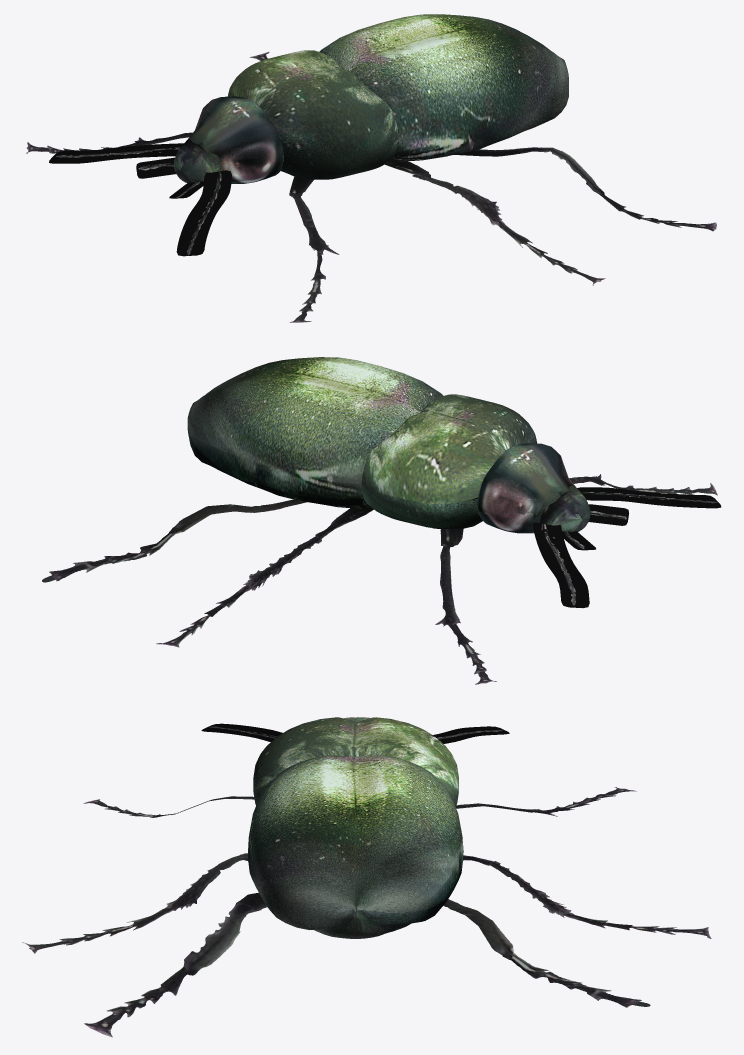
Rendered from Beetle.fbx.
3 views of the same model, one above another, from view 1: azimuth 30°, elevation 25°; view 2: azimuth 150°, elevation 25°; view 3: azimuth 270°, elevation 25° (orthographic). The views are drawn at different scales.
Visible parts, largest first — view 1: pCylinder5; view 2: pCylinder5; view 3: pCylinder5.
Part boxes in pixels (x1,y1,x2,y2): pCylinder5: (26, 14, 716, 322); pCylinder5: (42, 357, 721, 684); pCylinder5: (22, 717, 711, 1037).
Bounding box in the file's own units: 12.49 × 3.63 × 14.46.
